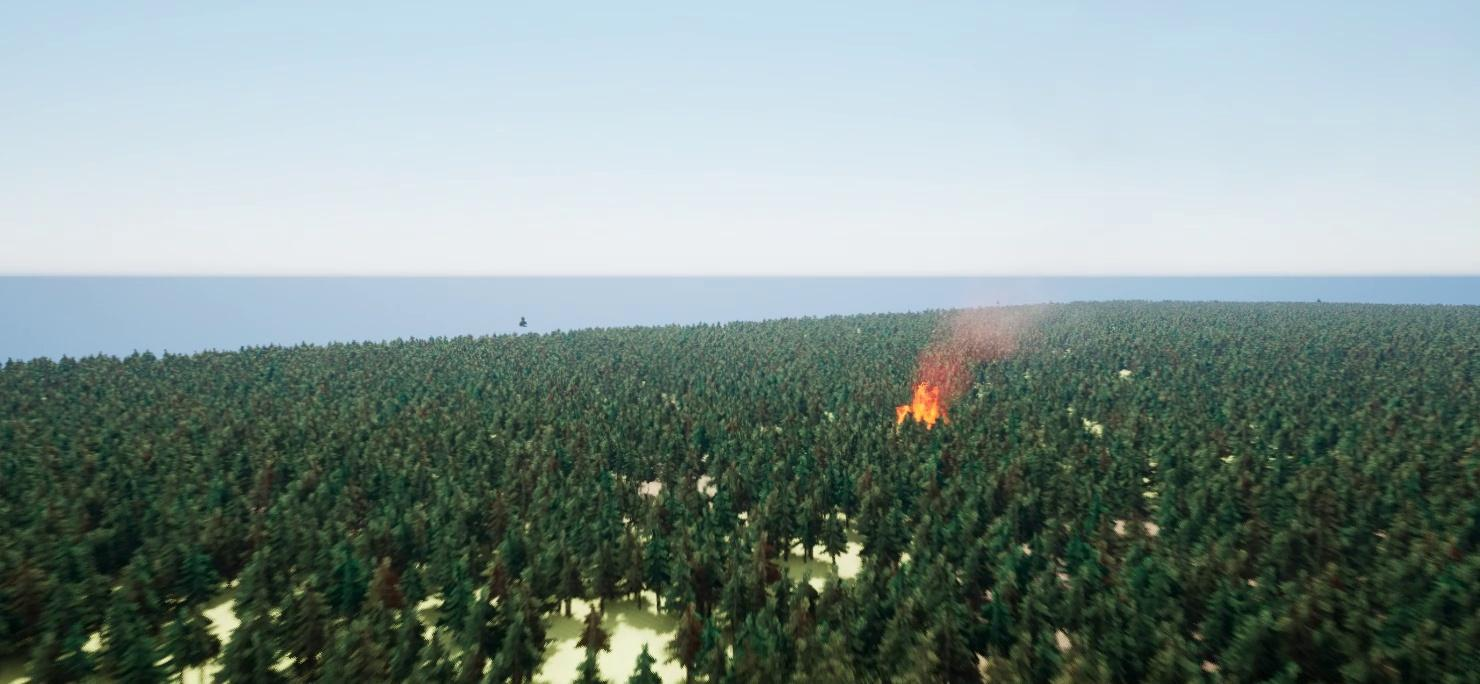fire: (897, 384, 944, 428)
smoke: (918, 295, 1044, 407)
